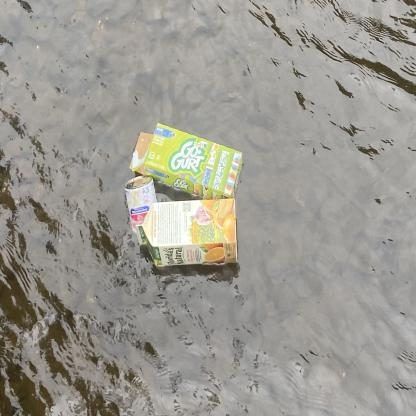trash: (124, 119, 249, 204), (135, 192, 242, 272), (124, 167, 162, 244)
